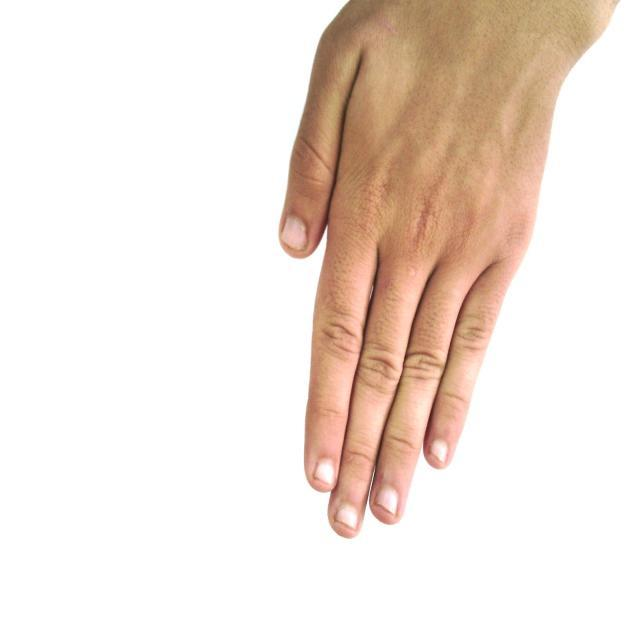Fingernail: (282, 216, 307, 250), (375, 485, 398, 512), (334, 503, 357, 528), (315, 457, 335, 485), (430, 439, 448, 462)
